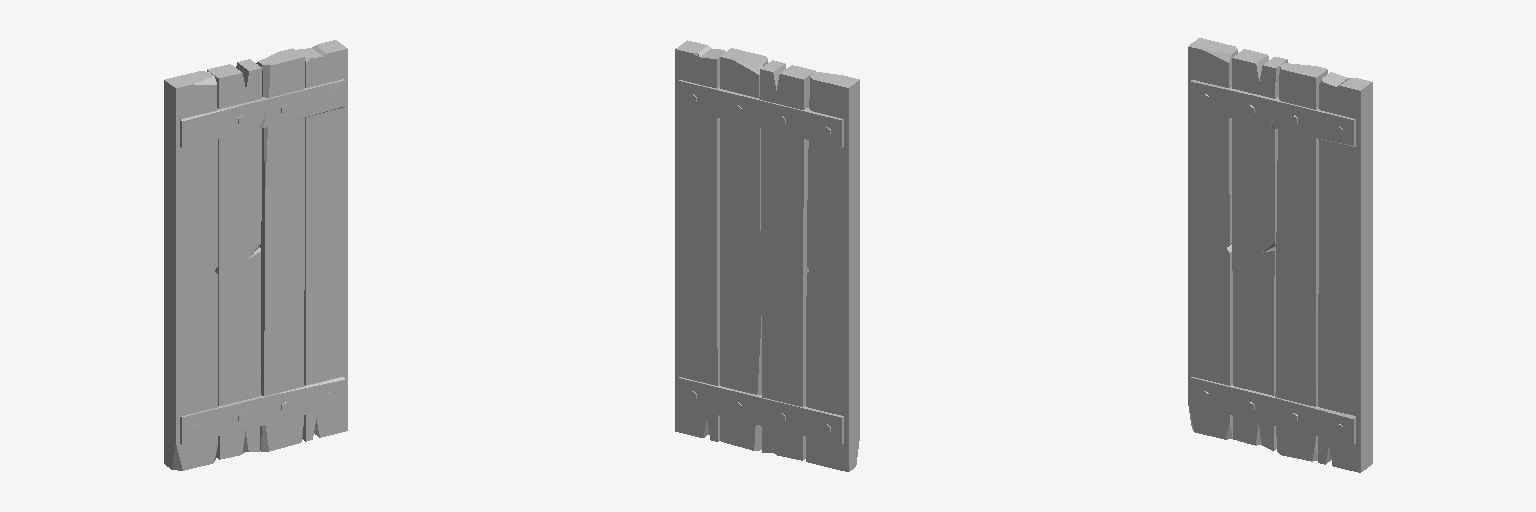
The model's file is HouseDoor_01_Edited.obj.
3 views of the same model, side by side, from view 1: azimuth 30°, elevation 25°; view 2: azimuth 150°, elevation 25°; view 3: azimuth 330°, elevation 25° (orthographic).
Visible parts, largest first — view 1: HouseDoor_01_Edited; view 2: HouseDoor_01_Edited; view 3: HouseDoor_01_Edited.
Part boxes in pixels (x1,y1,x2,y2): HouseDoor_01_Edited: (164,40,347,470); HouseDoor_01_Edited: (675,40,859,471); HouseDoor_01_Edited: (1188,38,1372,472).
Size of the model in its own units: 0.9741 by 2.08 by 0.1638.